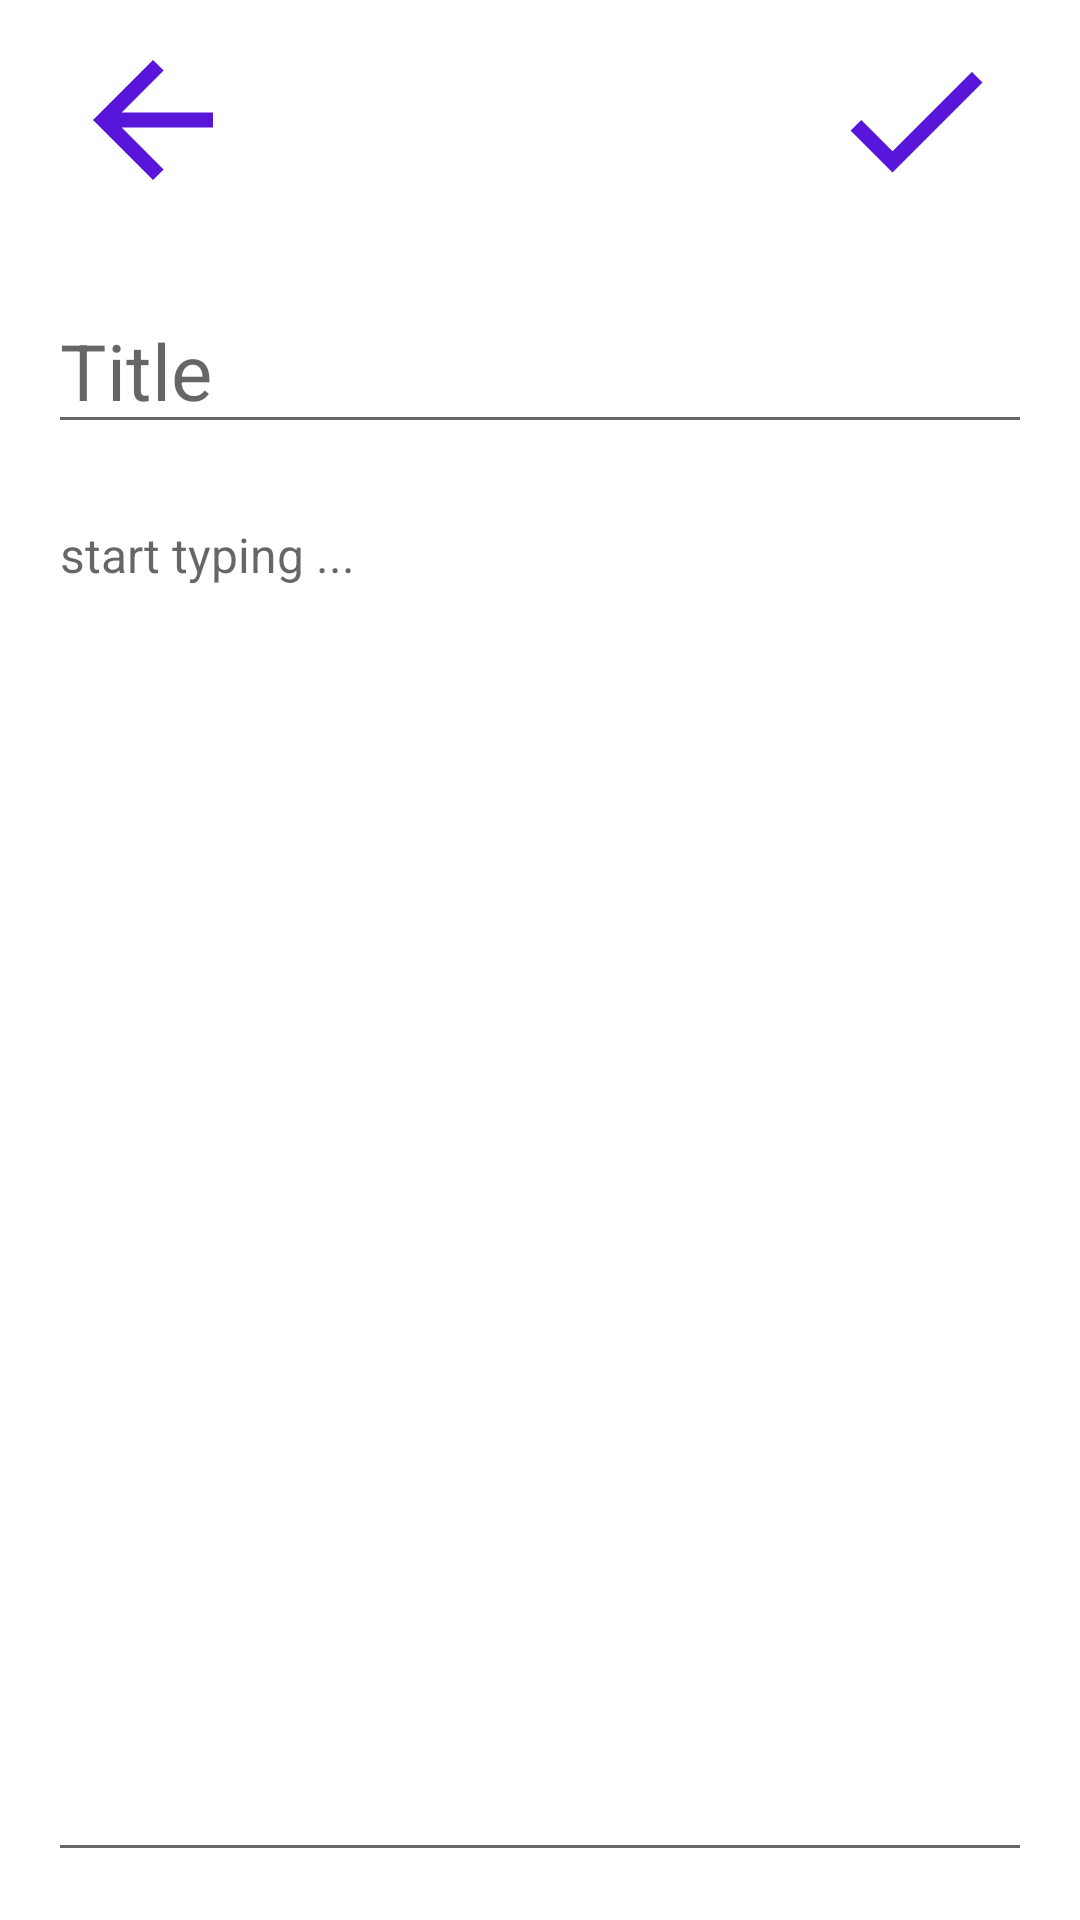

Screen size 1080*1920. Icon name, then its center in pixels as [x,y]:
arrow back: [153,120]
check: [916,122]
